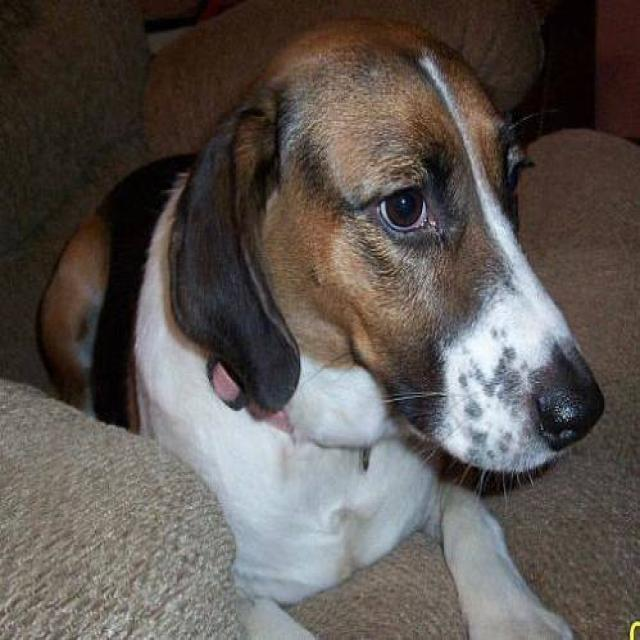Dog: (167, 15, 610, 514)
